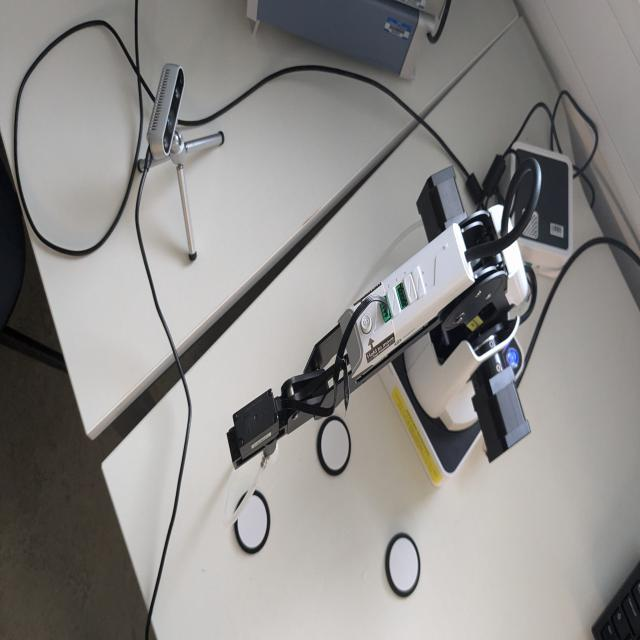Robot-end-effector-HF8z: (223, 385, 283, 492)
